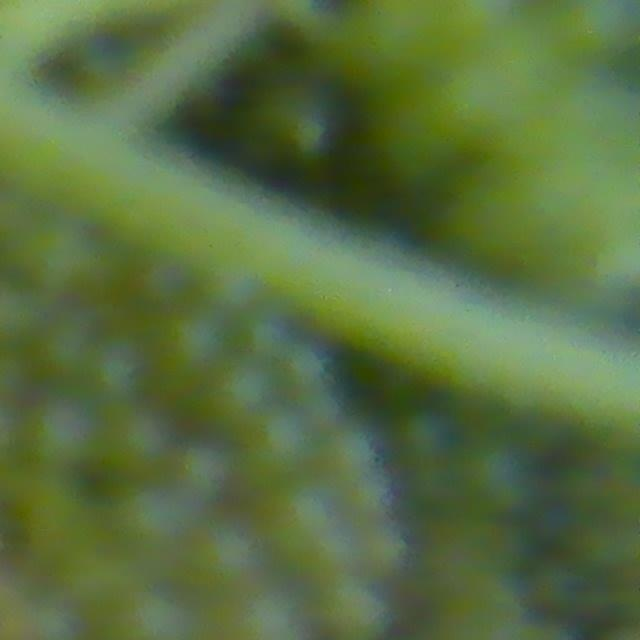SeaGrape: (19, 215, 109, 298), (150, 302, 236, 384), (234, 405, 317, 488), (177, 520, 256, 597), (113, 573, 203, 640), (103, 403, 177, 479), (558, 0, 639, 64), (263, 485, 330, 562), (111, 481, 180, 555), (22, 403, 93, 474), (227, 582, 304, 640), (316, 578, 386, 640), (204, 366, 268, 432), (171, 440, 228, 507)
